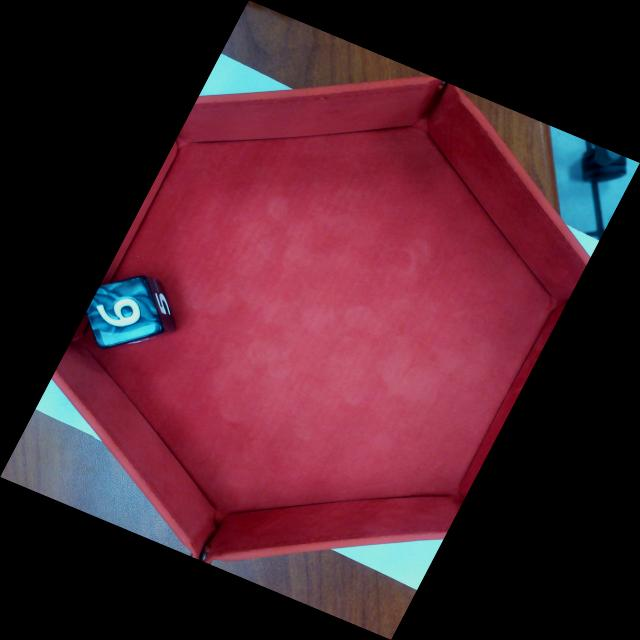dice: (85, 274, 167, 352)
